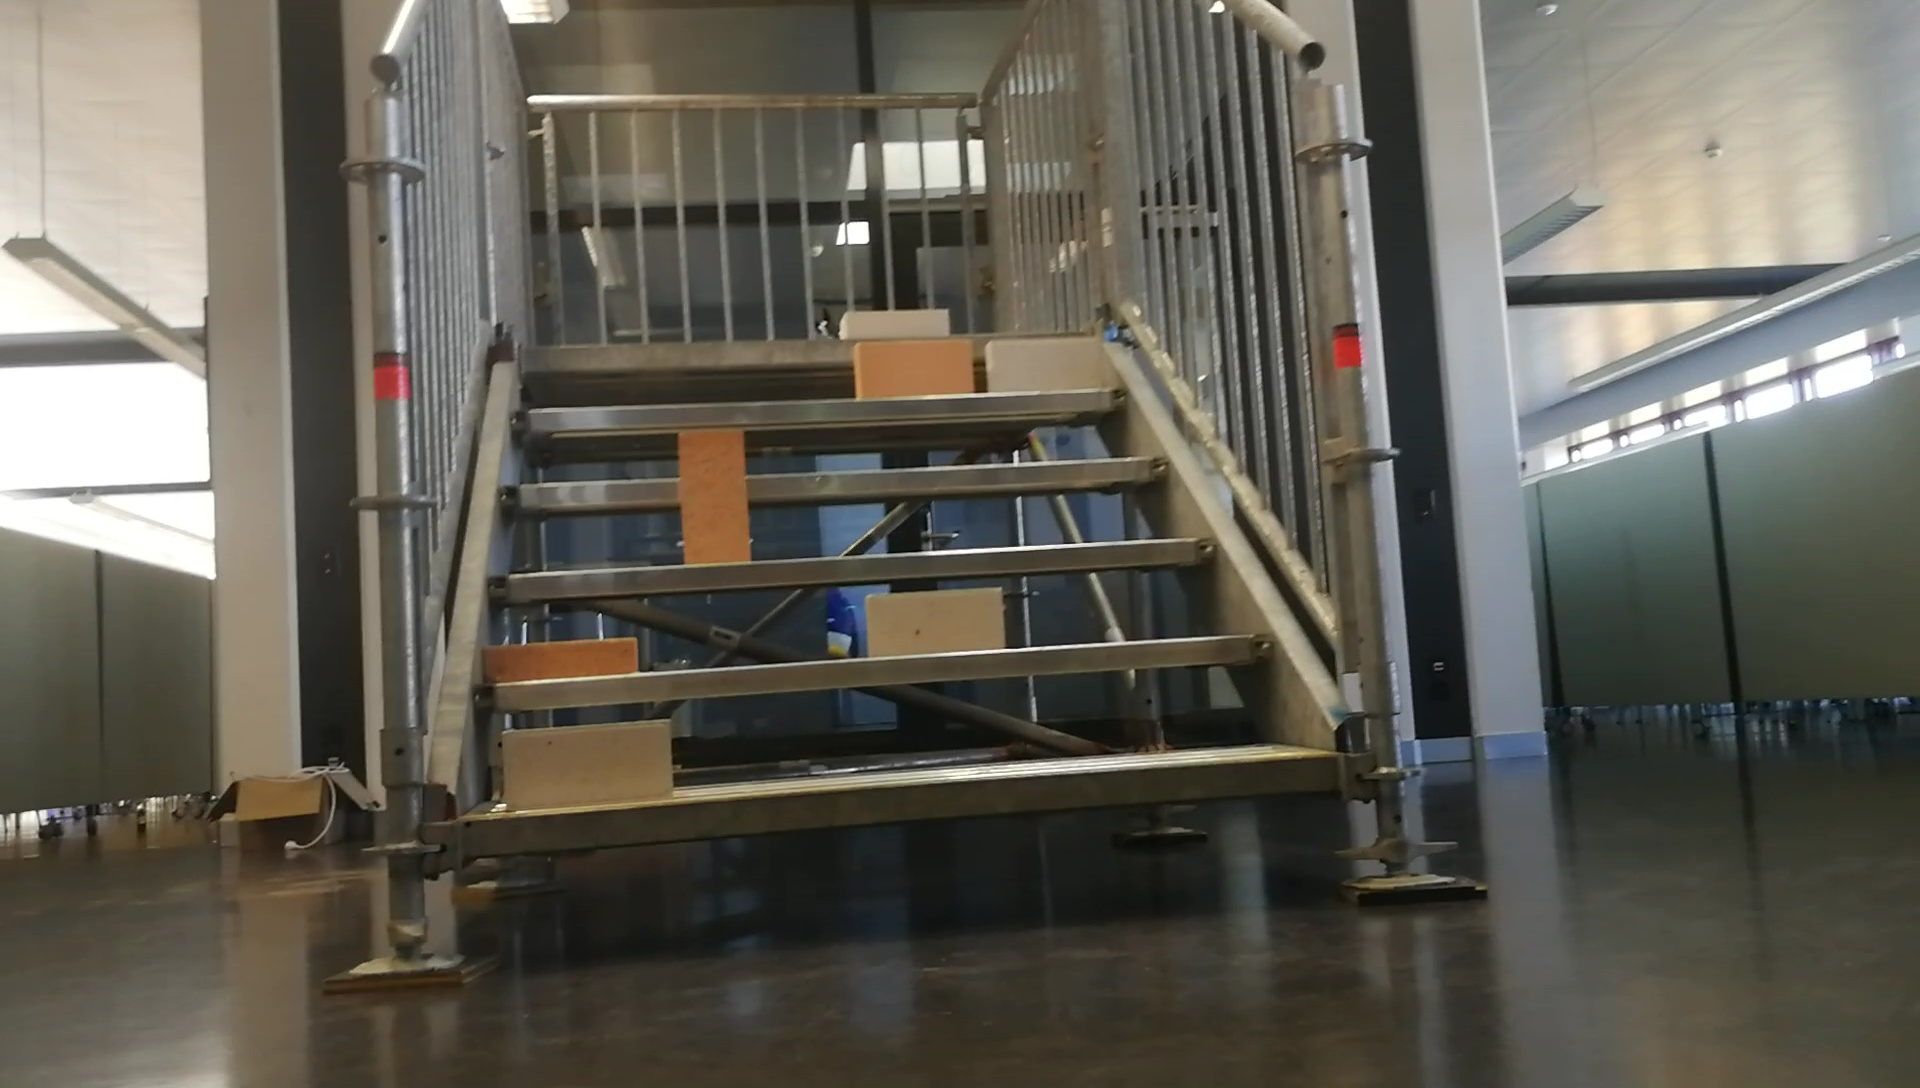brick: (500, 721, 670, 801), (868, 592, 1004, 651), (683, 429, 742, 560), (483, 633, 633, 678), (855, 340, 969, 390), (986, 340, 1097, 386), (843, 310, 944, 338)
edge: (458, 750, 1325, 856), (464, 636, 1280, 706), (487, 533, 1217, 599), (497, 455, 1167, 505), (513, 382, 1130, 433)
stairs: (313, 3, 1487, 996)
steps: (436, 299, 1348, 880)
